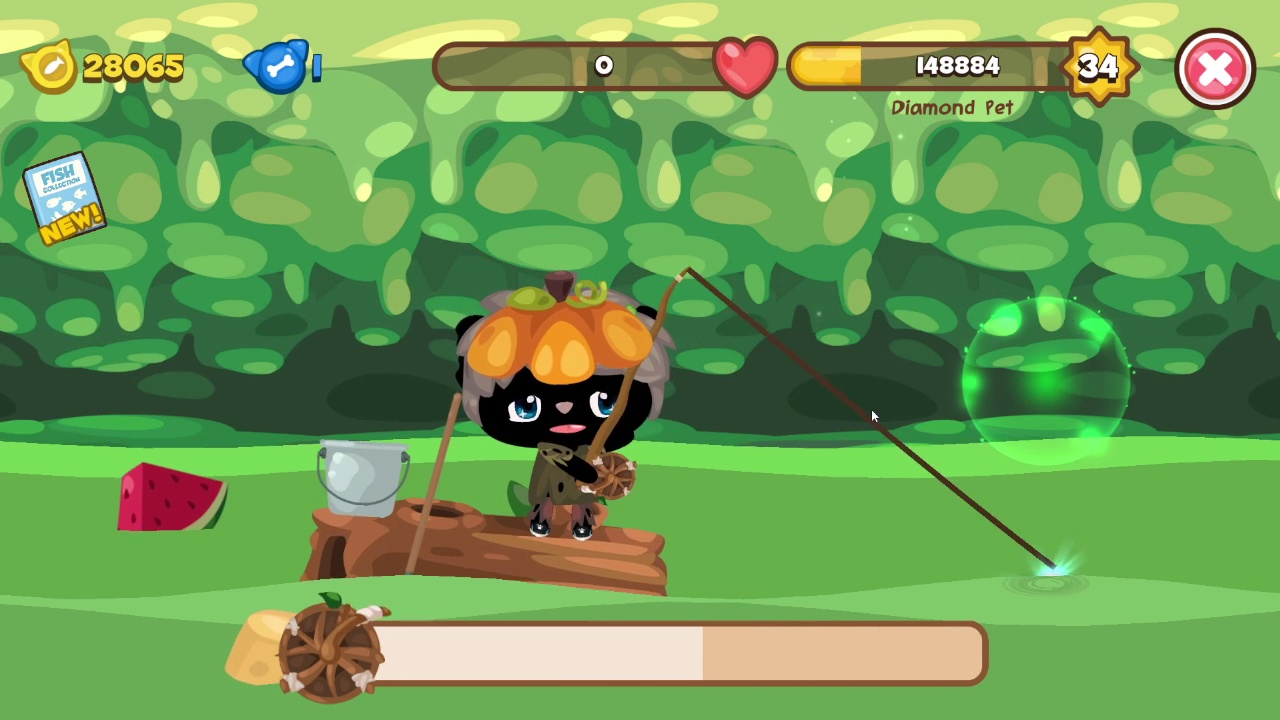point: (960, 294, 1132, 472)
